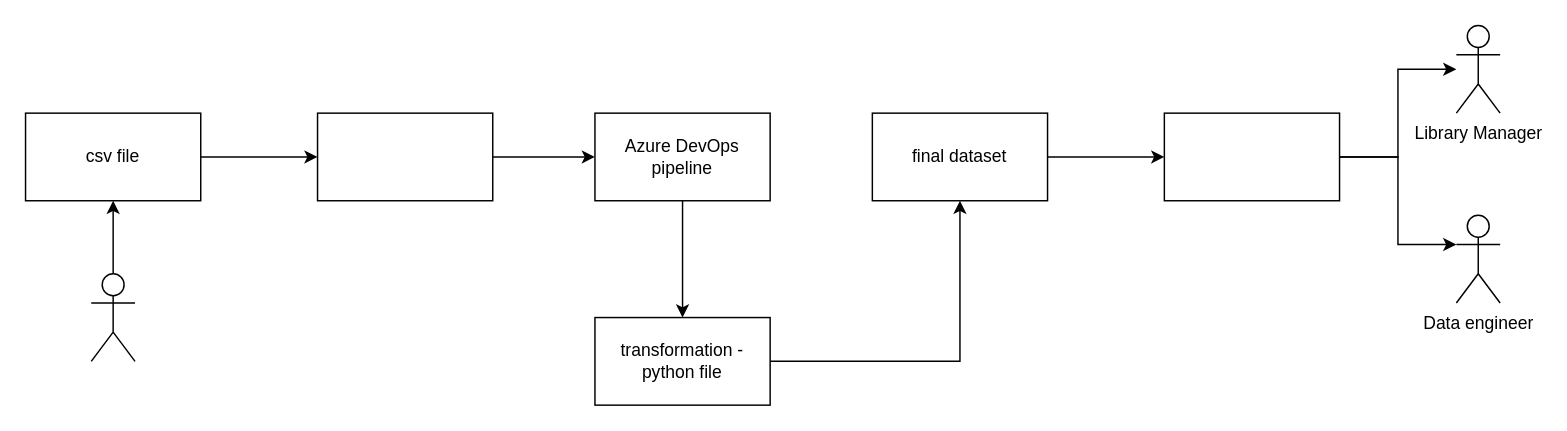
Image size: 1567x431. Some labels were removed from this diagram. Here are the shapes that lost their labels. From the top down, the centre of each, then its label:
(x=404, y=156): git repo
(x=1251, y=156): Power BI dashboard
(x=112, y=316): Librarian
